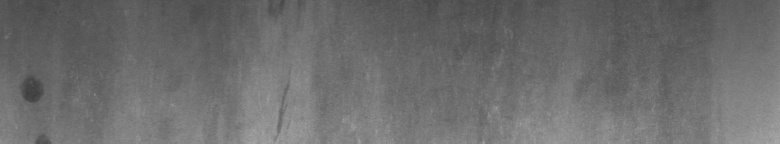fi: (5, 33, 44, 108)
